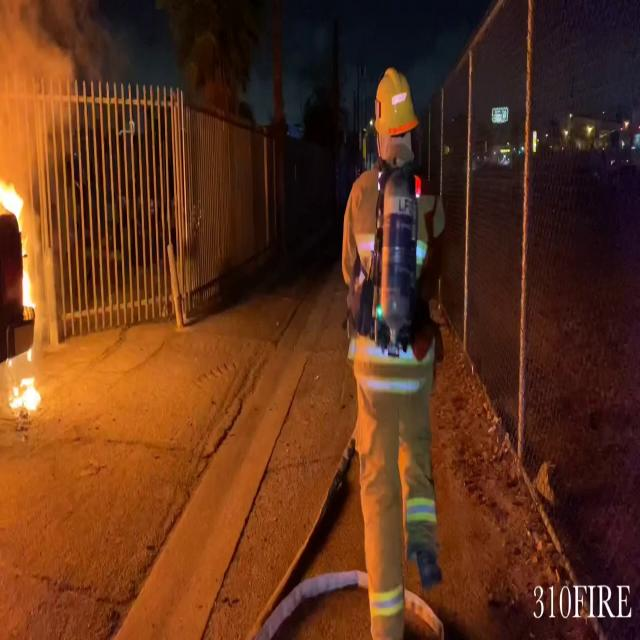Fire: (0, 166, 31, 230), (8, 371, 46, 415)
